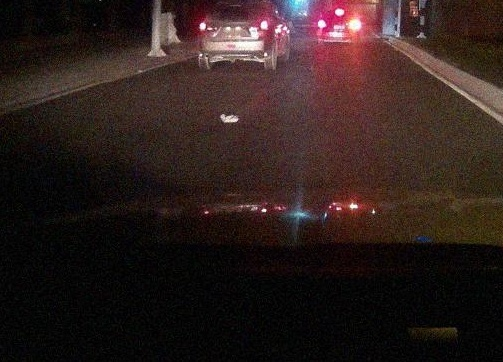L_light: (200, 22, 215, 31), (318, 21, 326, 27)
R_light: (251, 20, 268, 30), (350, 21, 358, 27)
T_light: (232, 3, 245, 7), (335, 11, 344, 14)
night-no: (198, 0, 269, 69)
night-right: (318, 10, 359, 45)
